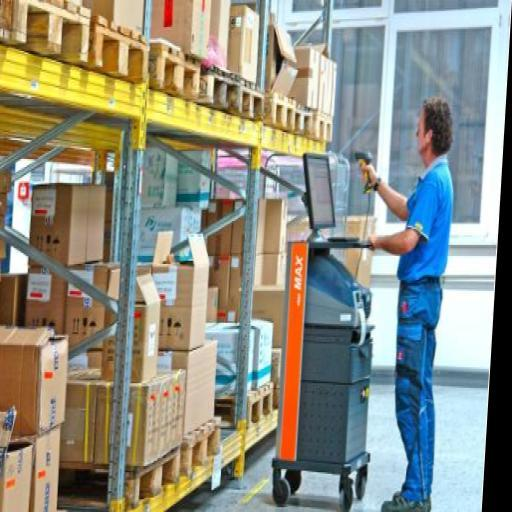safety_boots: (379, 492, 428, 512)
